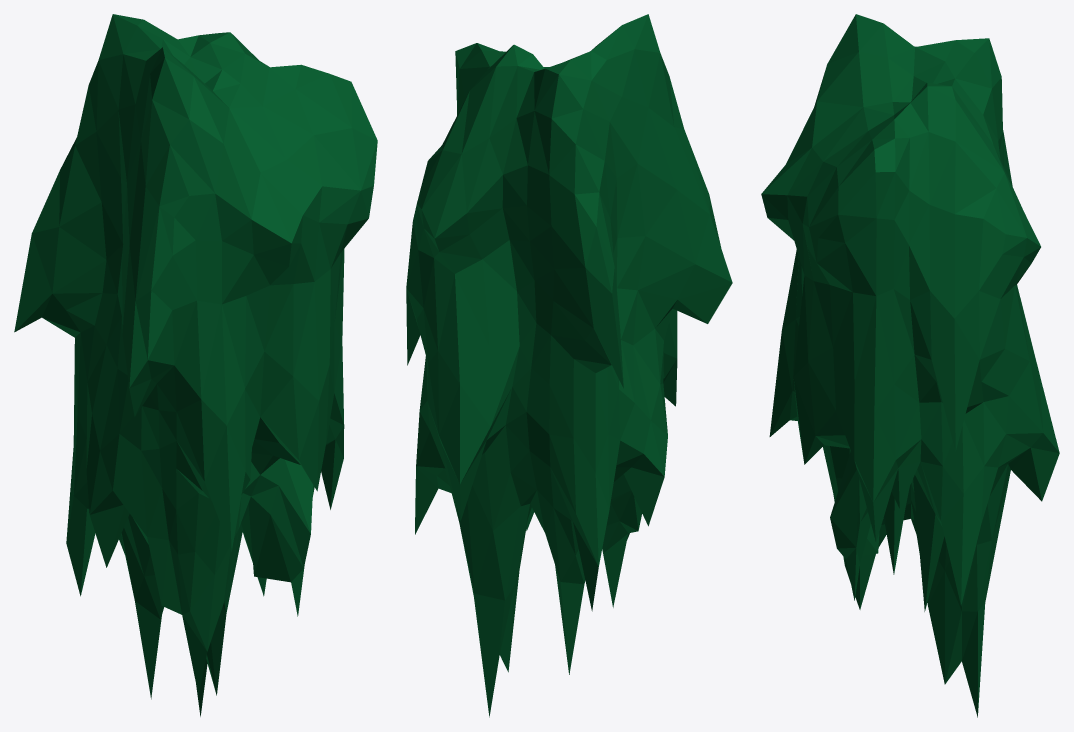
File: hangingmoss.dae
3 renders of one model, left to right at view 1: azimuth 30°, elevation 25°; view 2: azimuth 150°, elevation 25°; view 3: azimuth 270°, elevation 25°, orthographic. The views are drawn at different scales.
Parts seen in each view (by area): view 1: Cube; view 2: Cube; view 3: Cube.
Boxes of the visible parts, x1=… form: Cube: x1=14, y1=14, x2=377, y2=716; Cube: x1=406, y1=14, x2=732, y2=717; Cube: x1=761, y1=14, x2=1059, y2=717.
Size of the model in its own units: 6.36 by 6.86 by 16.7.
